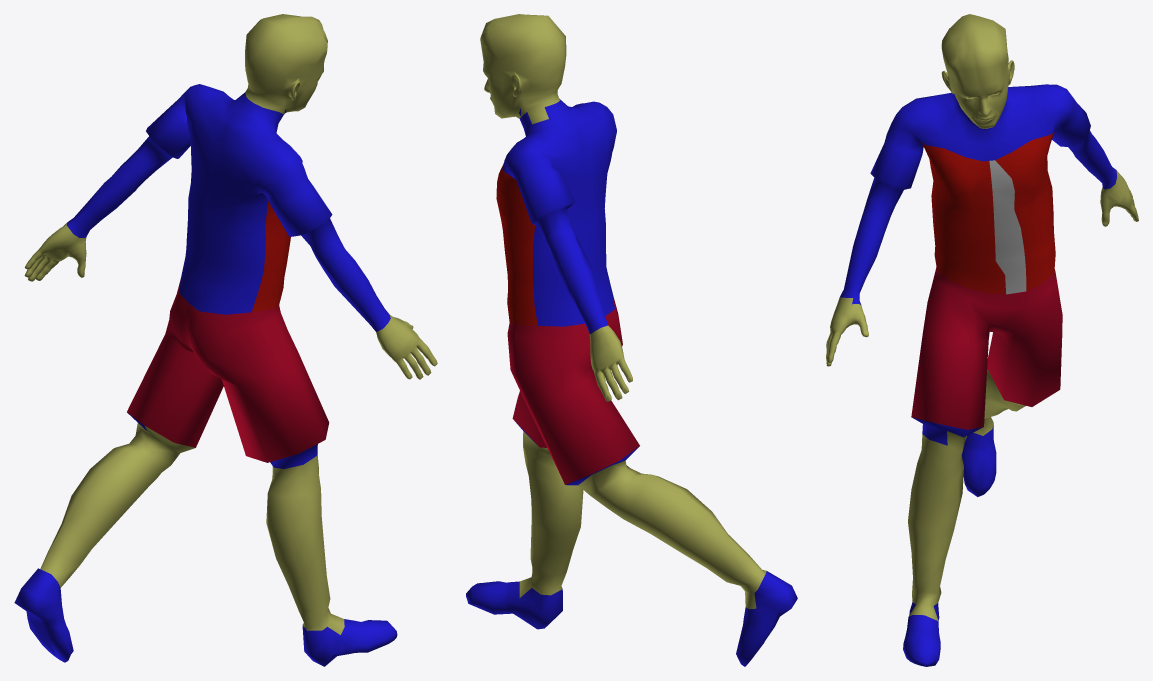
The model's file is player_000003.obj.
3 renders of one model, left to right at view 1: azimuth 30°, elevation 25°; view 2: azimuth 150°, elevation 25°; view 3: azimuth 270°, elevation 25°, orthographic. The views are drawn at different scales.
Visible parts, largest first — view 1: soccerplayer_mesh; view 2: soccerplayer_mesh; view 3: soccerplayer_mesh.
Part boxes in pixels (bbox=[...]): soccerplayer_mesh: bbox=[14, 14, 437, 666]; soccerplayer_mesh: bbox=[466, 14, 797, 666]; soccerplayer_mesh: bbox=[826, 14, 1138, 666].
Bounding box in the file's own units: 3.09 × 5.27 × 2.43.
